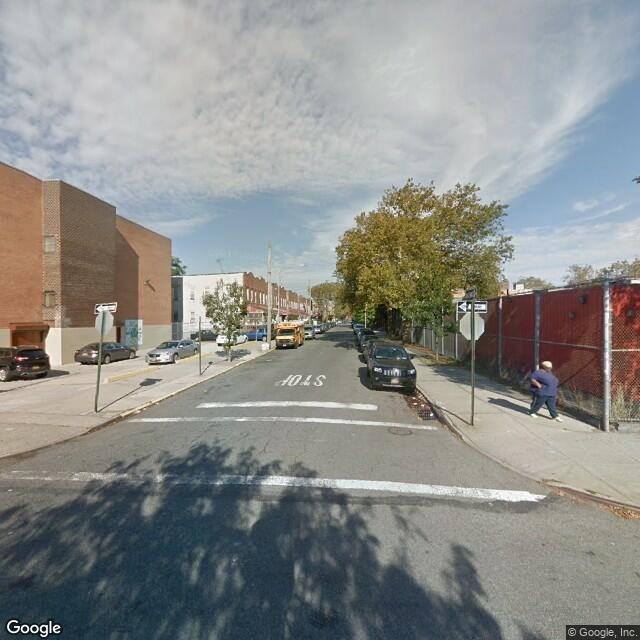litter: (422, 405, 439, 422), (408, 396, 426, 407), (410, 399, 424, 409)
